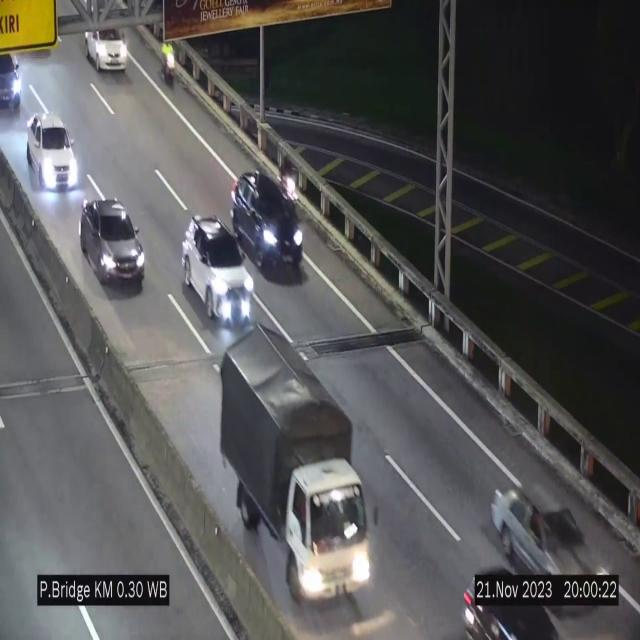Car: (476, 460, 619, 610), (444, 544, 580, 640), (180, 209, 255, 324), (231, 169, 309, 276), (80, 198, 144, 289), (27, 111, 81, 200), (0, 35, 26, 118), (85, 26, 127, 72)
Motorcycle: (159, 36, 181, 92), (280, 146, 300, 206)
Truck: (218, 317, 384, 603)
